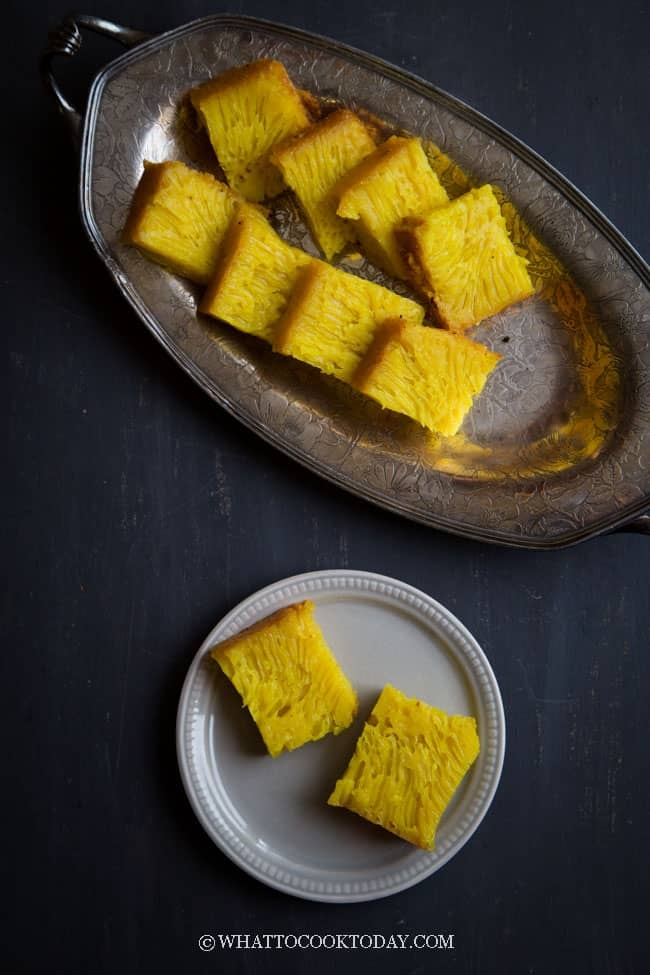bika_ambon: (313, 671, 476, 842), (399, 161, 554, 339), (205, 590, 349, 756), (352, 327, 496, 452)
